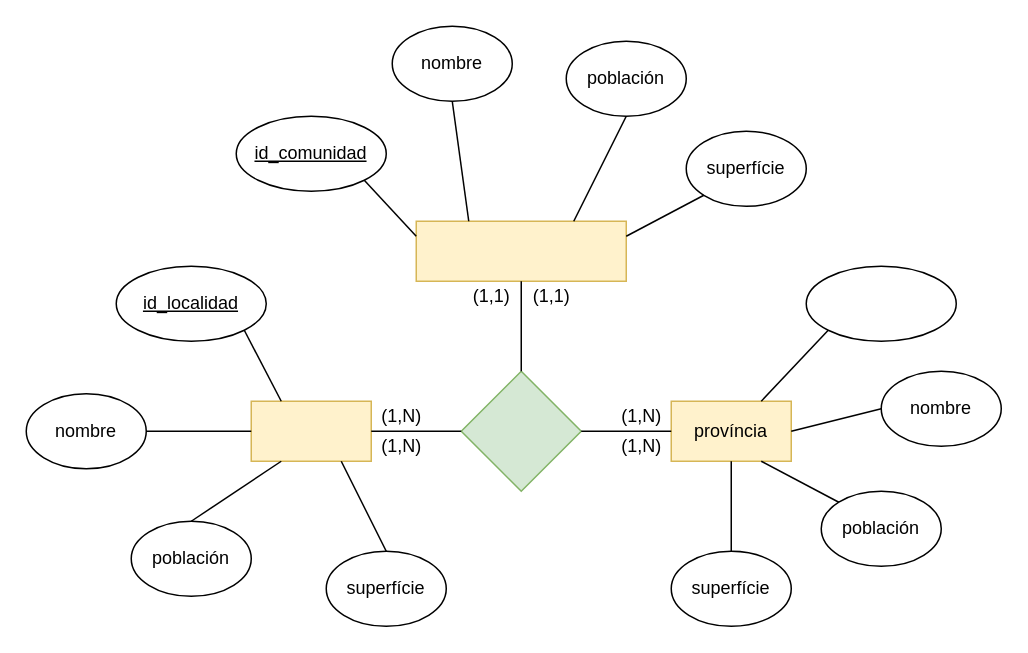
Image size: 1028x653. Some labels were removed from this diagram. The shapes that lost their labels are listed below. From the top down, each one's box as (x1, y1, x2, y2) in pixels, then its label:
(415, 220, 626, 281): comunidad autónoma
(805, 265, 956, 341): id_província
(250, 400, 371, 461): localidad
(460, 370, 581, 491): pertenece
